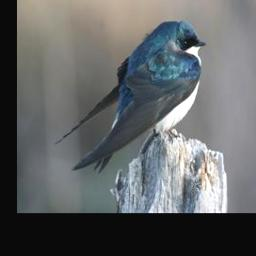Swallow: (53, 19, 205, 173)
